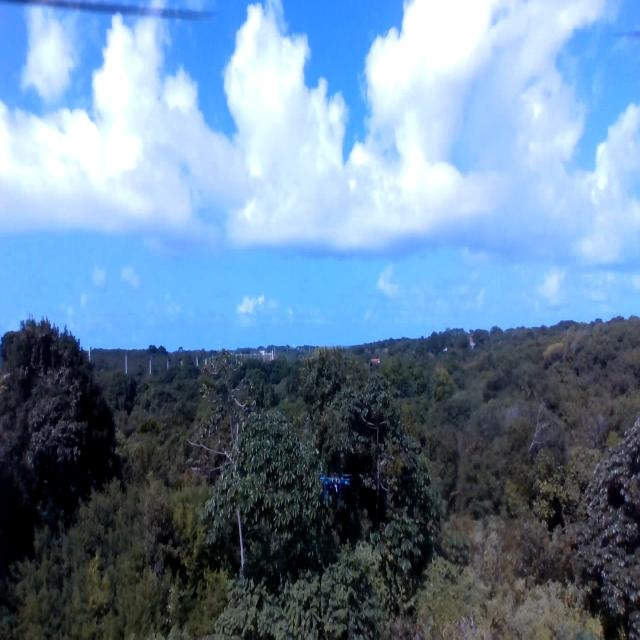-uav-: (310, 455, 359, 524)
